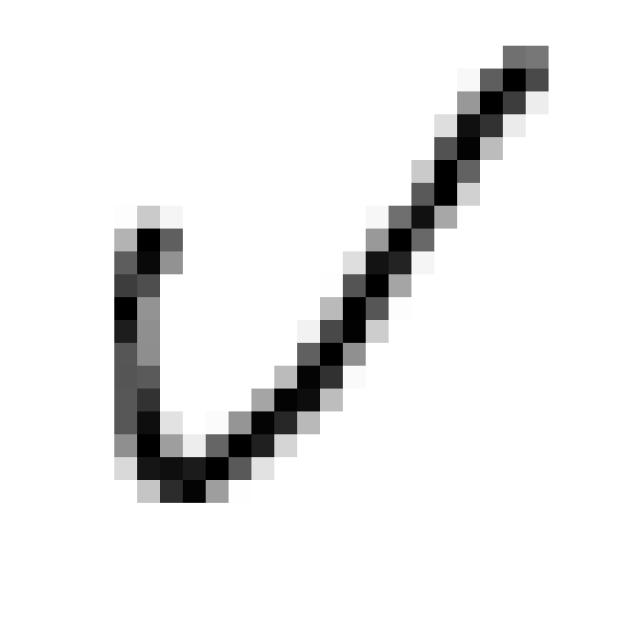7 -seven-: (92, 23, 562, 507)
